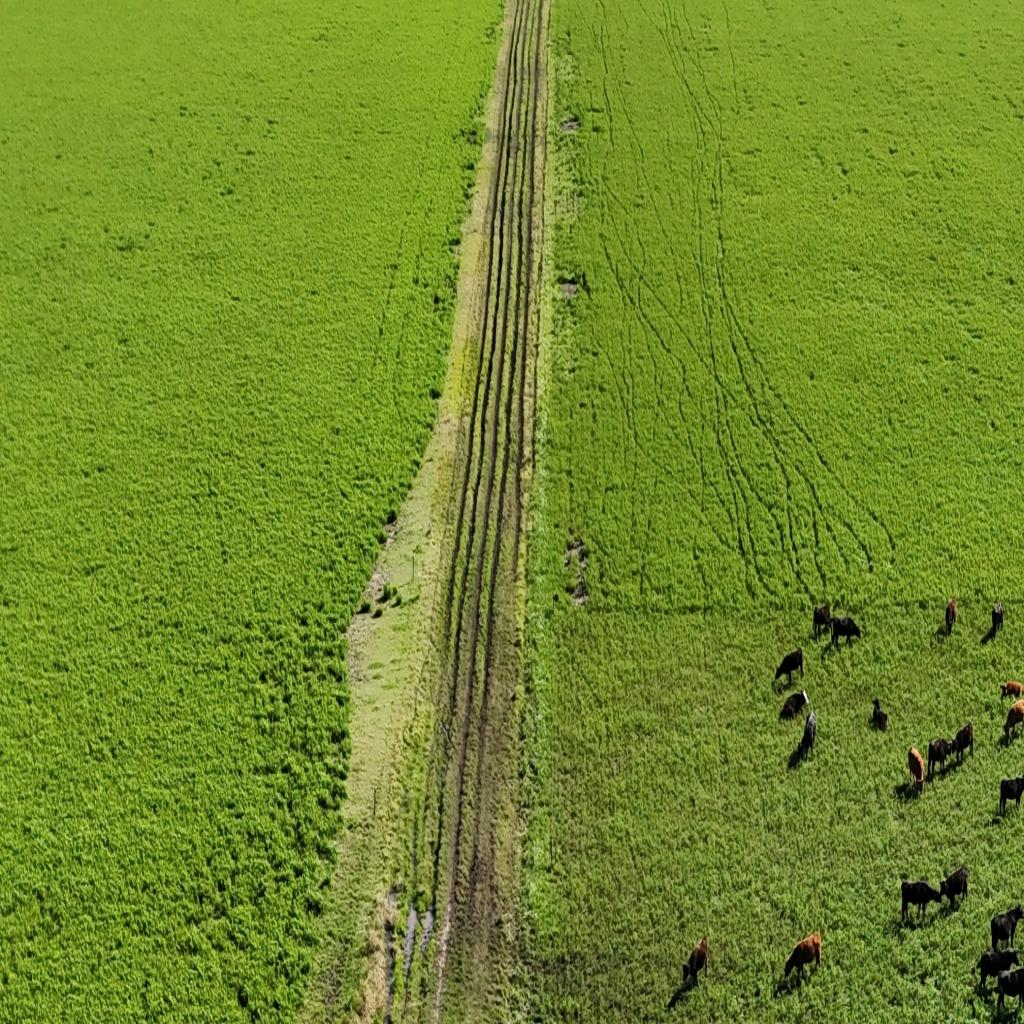cow: (784, 931, 822, 985), (901, 877, 944, 923), (977, 947, 1019, 993), (991, 903, 1024, 953), (940, 863, 970, 911), (683, 935, 710, 987), (995, 962, 1024, 1010), (998, 771, 1024, 815), (927, 737, 954, 779), (775, 648, 804, 687), (830, 616, 861, 648), (908, 744, 927, 796), (780, 690, 809, 722), (953, 721, 974, 765), (799, 710, 817, 759), (1002, 704, 1024, 742), (813, 604, 832, 640), (871, 697, 890, 733), (788, 739, 807, 769), (1000, 679, 1022, 702), (945, 598, 957, 635), (991, 604, 1004, 636)
